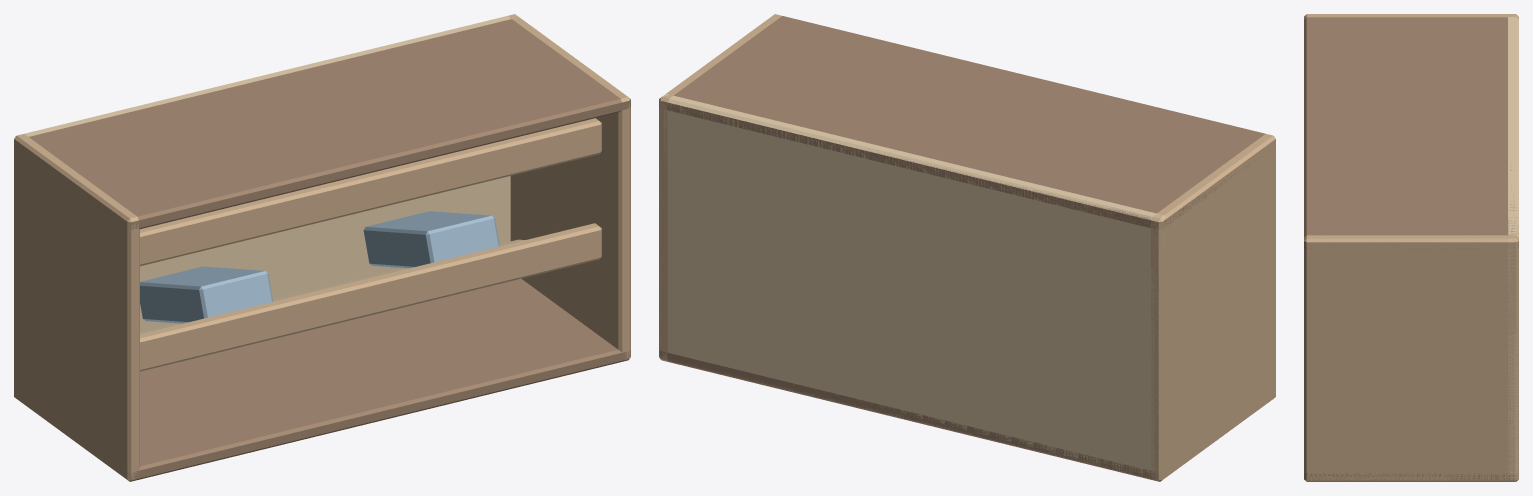
File: ShoeRack_2x1.glb
3 renders of one model, left to right at view 1: azimuth 30°, elevation 25°; view 2: azimuth 150°, elevation 25°; view 3: azimuth 270°, elevation 25°, orthographic. The views are drawn at different scales.
Visible parts, largest first — view 1: SpaceSaver_WallSys_ShoeRack_2x1; view 2: SpaceSaver_WallSys_ShoeRack_2x1; view 3: SpaceSaver_WallSys_ShoeRack_2x1.
Part boxes in pixels (x1=…): SpaceSaver_WallSys_ShoeRack_2x1: x1=14, y1=14, x2=630, y2=481; SpaceSaver_WallSys_ShoeRack_2x1: x1=659, y1=14, x2=1275, y2=481; SpaceSaver_WallSys_ShoeRack_2x1: x1=1304, y1=14, x2=1518, y2=481.
Bounding box in the file's own units: 0.8 × 0.4 × 0.32.
